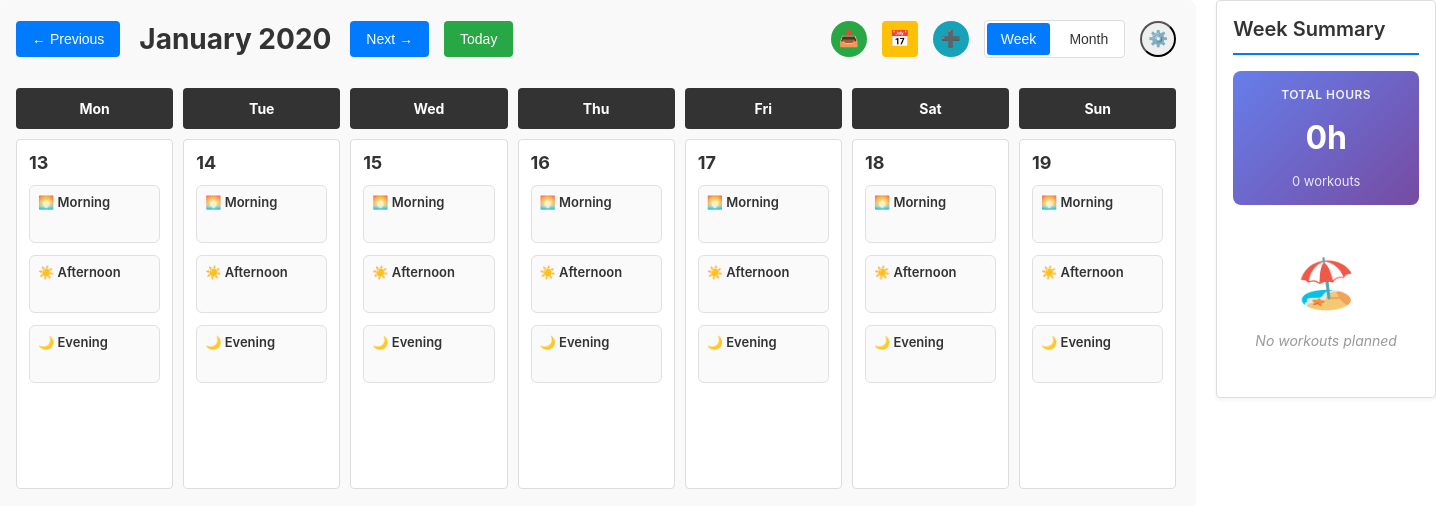
Test: Calendar Component › should go to today when today button is clicked
Check: the heading "January 2020" is shown, box [135,22,335,56]
Note: Click today button
Click the button "Today" at (479, 39), box [444,21,513,57]
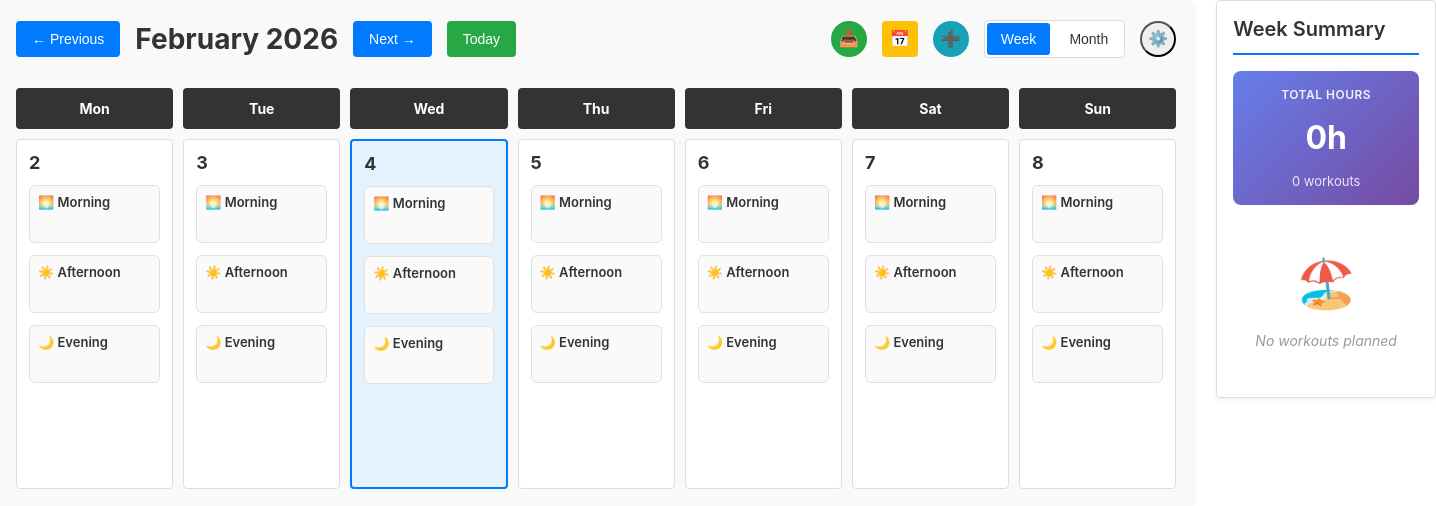
Check: the heading "February 2026" is shown, box [135,22,338,56]
